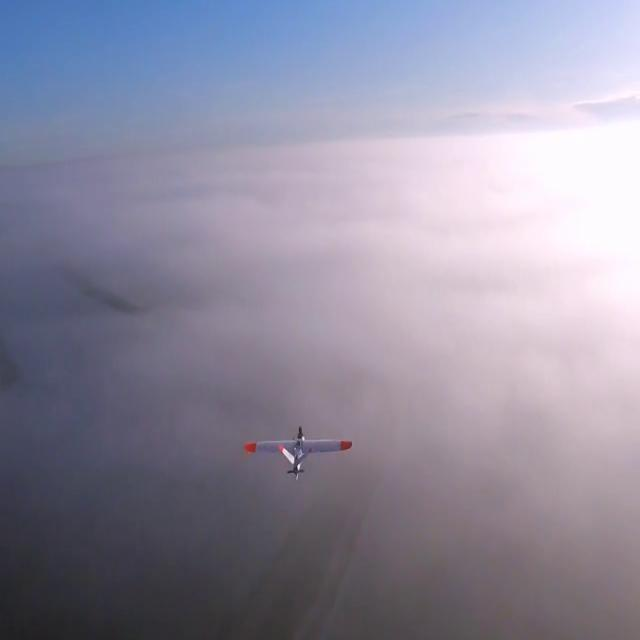iha: (275, 423, 323, 484)
